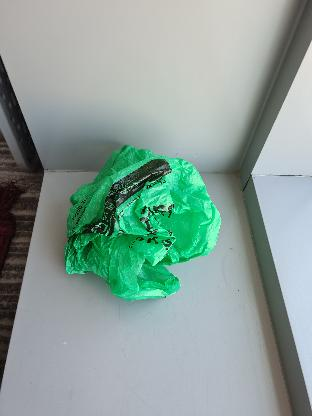Plastic Bag: (64, 146, 220, 298)
